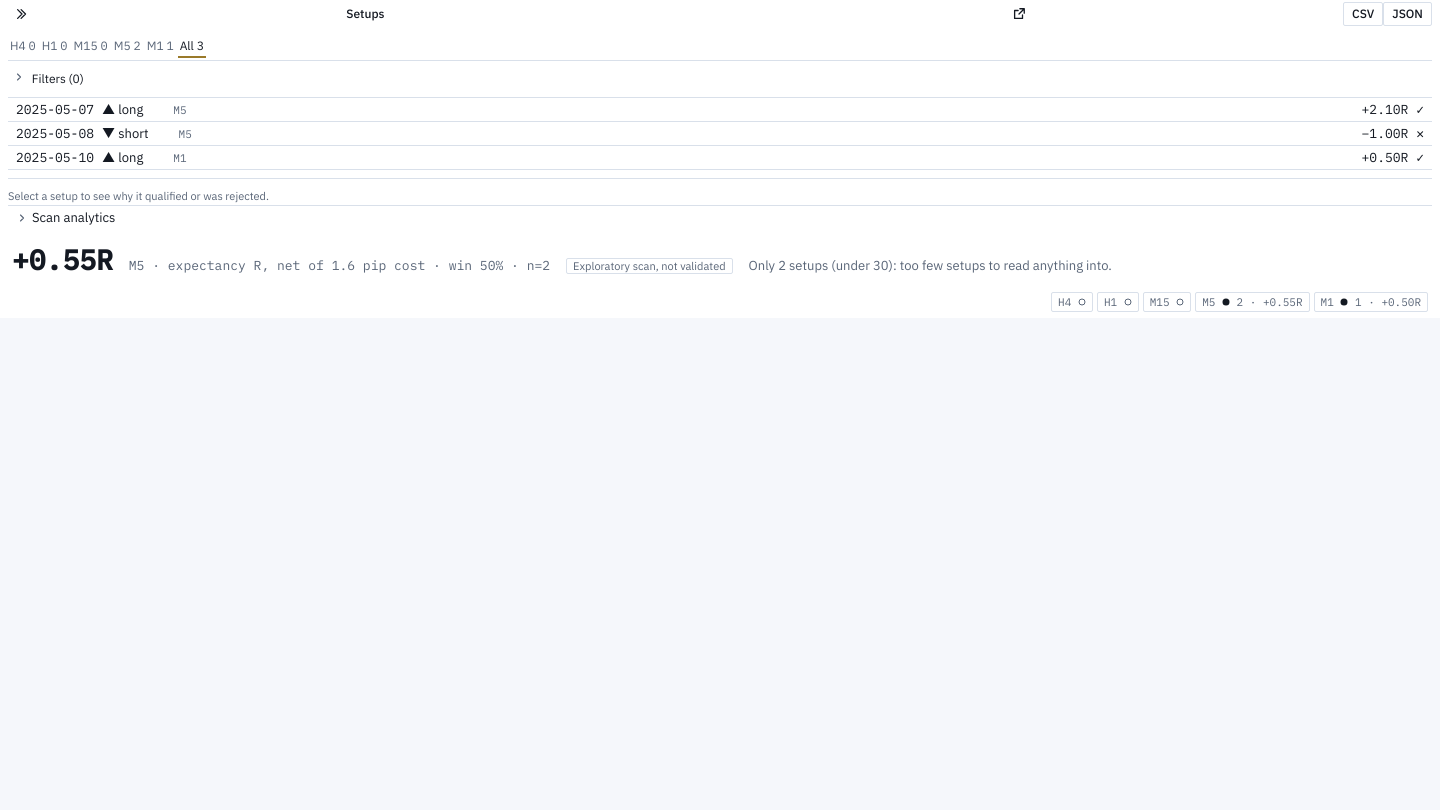
Scenario: setup browser › clicking a row makes the setup active and fills the annotation store; detail shows conditions
This screenshot has width=1440, height=810.
Click the button "2025-05-07 ▲ long M5 +2.10R ✓" at (55, 109), box 8,98 -> 1432,122
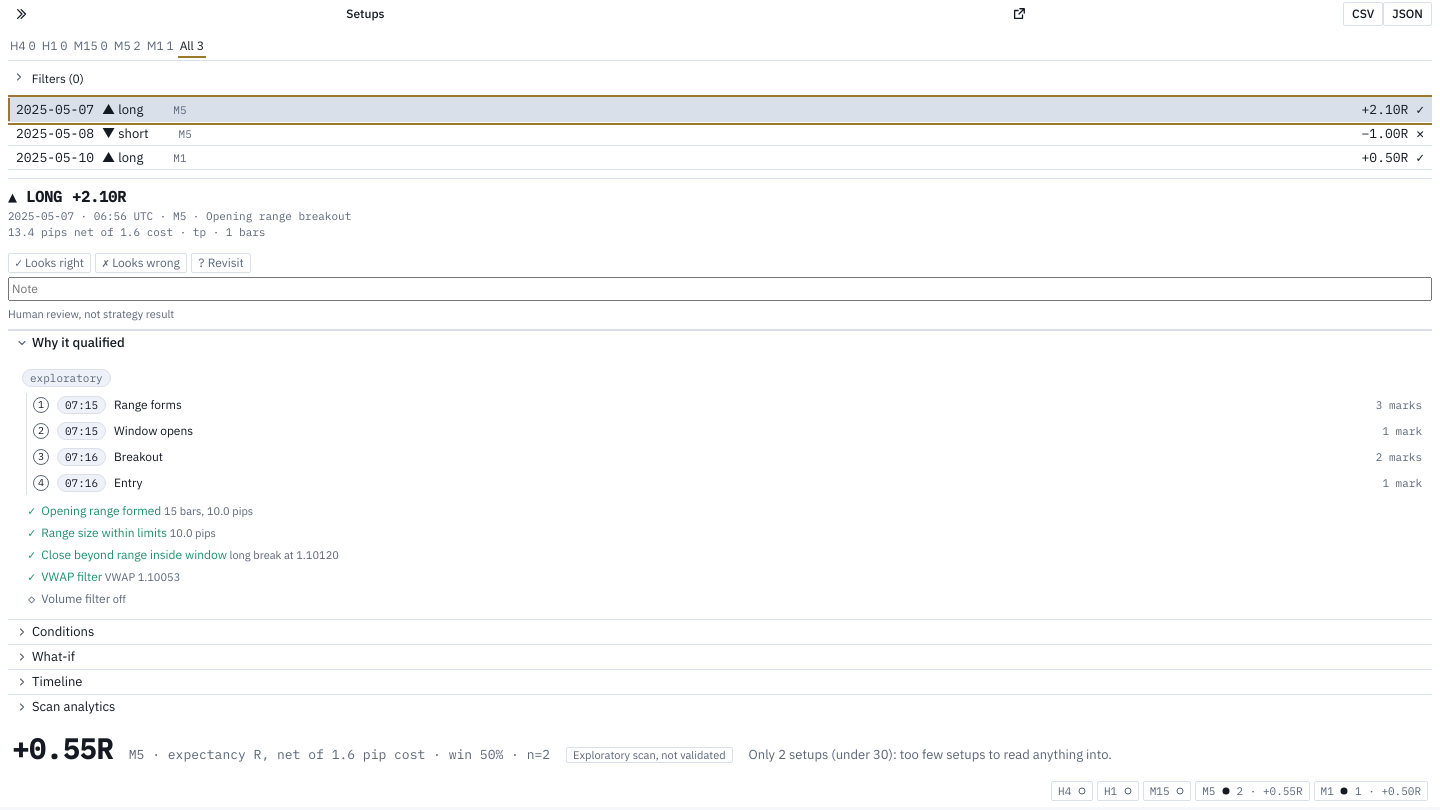
Click the button "Conditions" at (63, 632), box 8,620 -> 1432,644
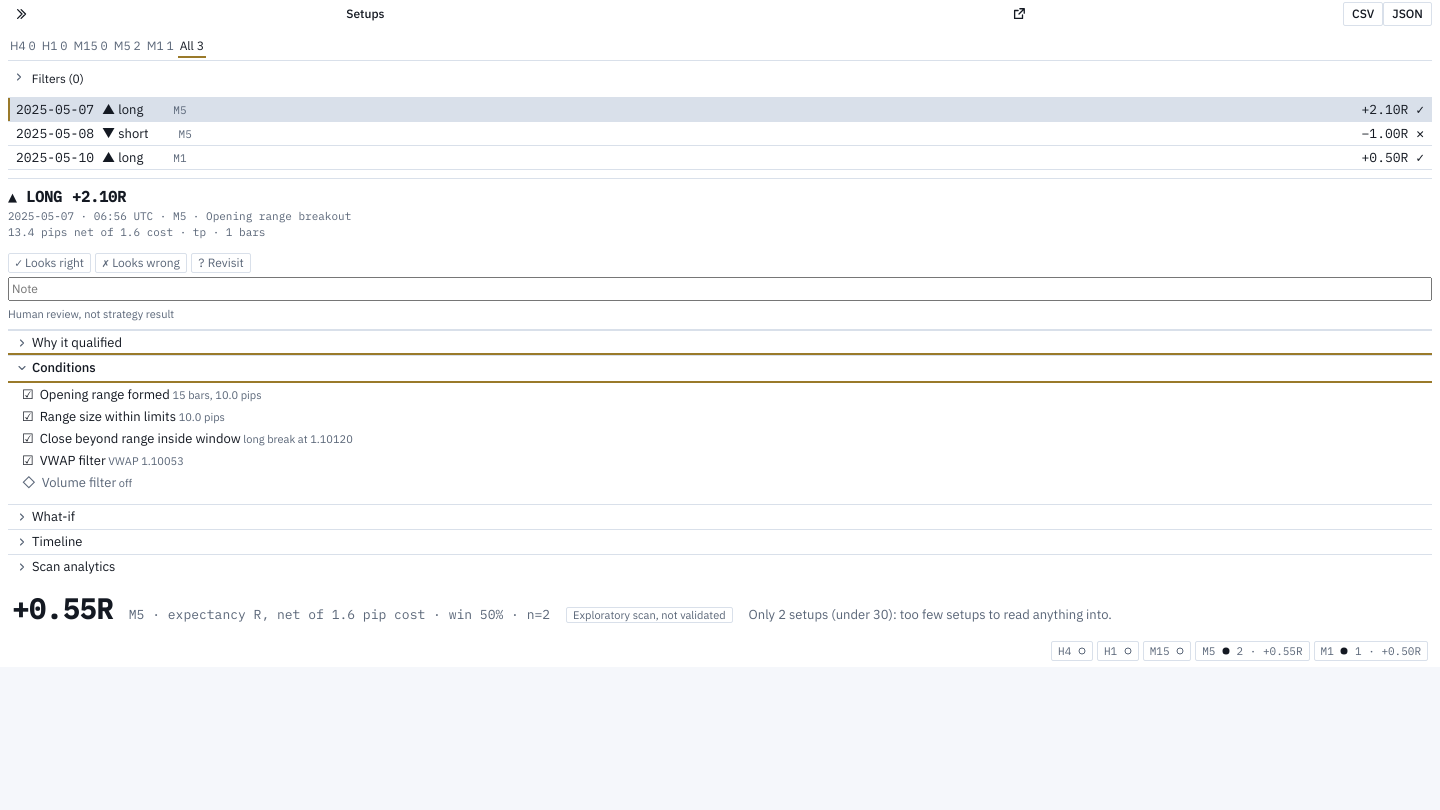
Now the list named "Conditions" is shown, box 22,386 -> 353,491
